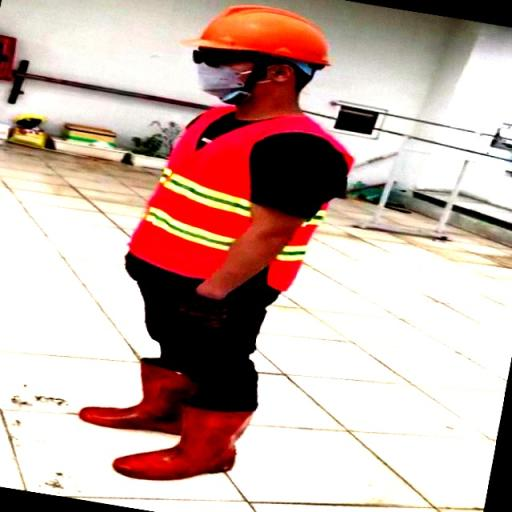Person: (74, 8, 360, 490)
boots: (105, 406, 258, 487), (73, 356, 185, 436)
gloves: (172, 289, 224, 333)
goggles: (184, 48, 318, 74)
helmet: (176, 5, 335, 66)
vest: (126, 98, 356, 302)
